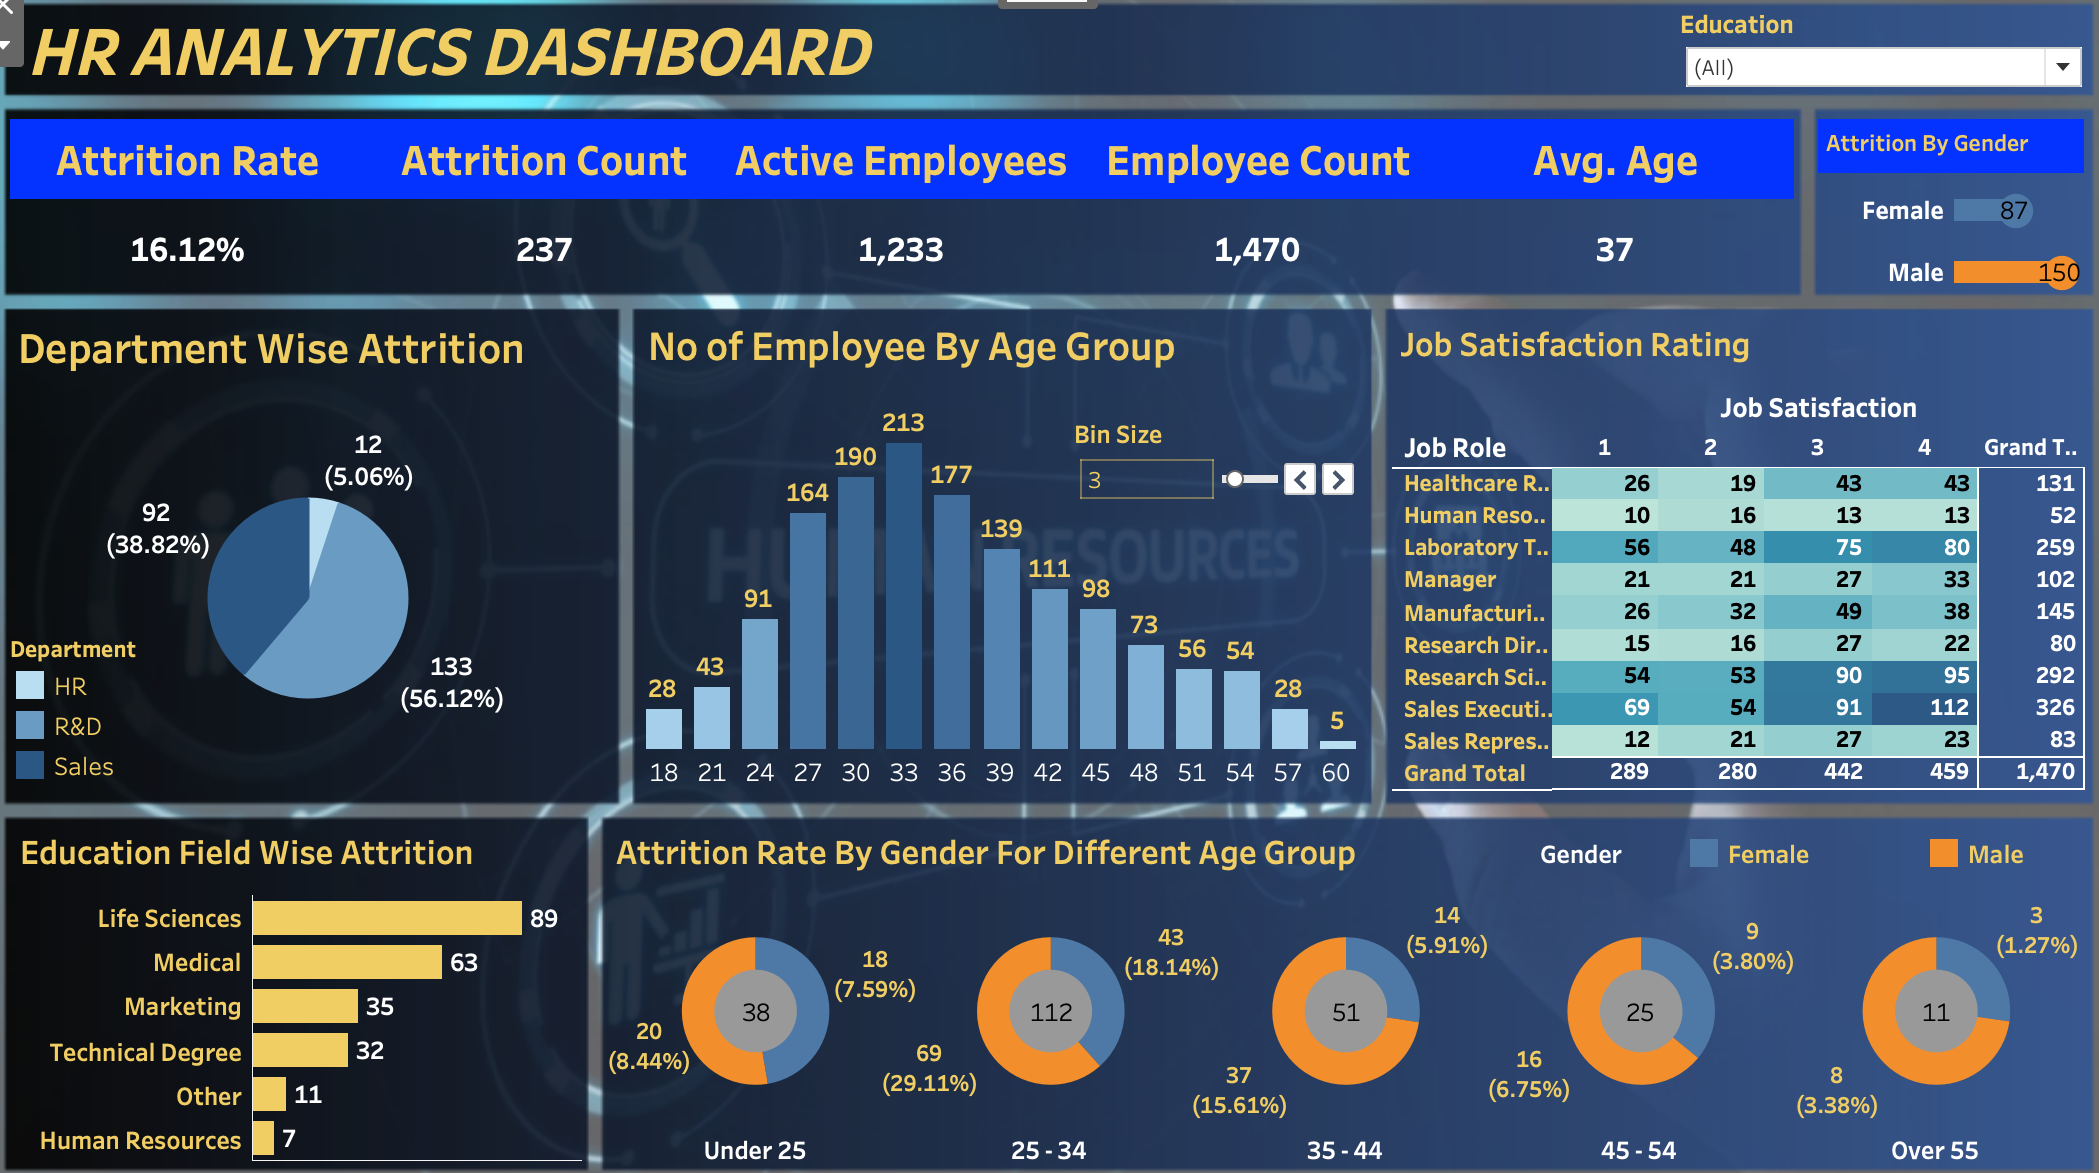

The page's visual inventory and layout, read from the dashboard file:
{"tool":"tableau","page":{"name":"HR Analytics Dashboard","canvas":[1000,1000],"units":"permille","ordinal":0},"visuals":[{"type":"image","param":"Image/HR background.pptx.png","box":[7.4,11.2,985.1,977.5]},{"type":"filter","title":"Attrition By Gender","param":"[federated.0ds8j230nwlna30zz64hw178v43f].[none:Education:nk]","box":[792.9,25.3,189.4,59.1]},{"type":"text","box":[23.3,33.7,923.6,44]},{"type":"worksheet","title":"KPI","mark":"Automatic","box":[17.8,104.1,827.9,126.1]},{"type":"worksheet","title":"Attrition By Gender","mark":"Automatic","rows":["Gender"],"cols":["Calculation_6373473833103360","Calculation_6373473833103360"],"box":[857.4,104.1,124,129]},{"type":"worksheet","title":"Department Wise Attrition","mark":"Pie","box":[17.7,239.1,276.8,343.2]},{"type":"worksheet","title":"No of Employee By Age Group","mark":"Automatic","rows":["Employee Count"],"cols":["Age (bin)"],"box":[310.3,239.1,335.5,337.6]},{"type":"worksheet","title":"Job Satisfaction Rating","mark":"Square","rows":["Job Role"],"cols":["Job Satisfaction"],"box":[658.9,240.5,322.5,336.2]},{"type":"parameter","param":"[Parameters].[Parameter 6373474072248323]","box":[511.7,313.8,132.3,64.5]},{"type":"legend","title":"Department Wise Attrition","param":"[federated.0ds8j230nwlna30zz64hw178v43f].[none:Department:nk]","box":[17.7,465.5,132.3,115.3]},{"type":"worksheet","title":"Education Field Wise Attrition","mark":"Automatic","rows":["Education Field"],"cols":["Calculation_6373473833103360"],"box":[18.6,597.8,264.7,239.1]},{"type":"worksheet","title":"Attrition Rate By Gender For Different Age Group","mark":"Pie","rows":["Calculation_6373474102652935","Calculation_6373474102652935"],"cols":["CF_age band"],"box":[295.4,597.8,685,244.7]}]}

Visuals, with their boxes on the dashboard's canvas, which has no fixed pixel size, in thousandths of its width and height (x1, y1, x2, y2). These are canvas units, not pixel positions in the 2099x1173 screenshot, which may show the page scaled, cropped or inside an application window:
image: (x1=7, y1=11, x2=992, y2=989)
"Attrition By Gender" filter: (x1=793, y1=25, x2=982, y2=84)
text: (x1=23, y1=34, x2=947, y2=78)
"KPI" worksheet: (x1=18, y1=104, x2=846, y2=230)
"Attrition By Gender" worksheet: (x1=857, y1=104, x2=981, y2=233)
"Department Wise Attrition" worksheet (Pie marks): (x1=18, y1=239, x2=294, y2=582)
"No of Employee By Age Group" worksheet: (x1=310, y1=239, x2=646, y2=577)
"Job Satisfaction Rating" worksheet (Square marks): (x1=659, y1=240, x2=981, y2=577)
parameter: (x1=512, y1=314, x2=644, y2=378)
"Department Wise Attrition" legend: (x1=18, y1=466, x2=150, y2=581)
"Education Field Wise Attrition" worksheet: (x1=19, y1=598, x2=283, y2=837)
"Attrition Rate By Gender For Different Age Group" worksheet (Pie marks): (x1=295, y1=598, x2=980, y2=842)
